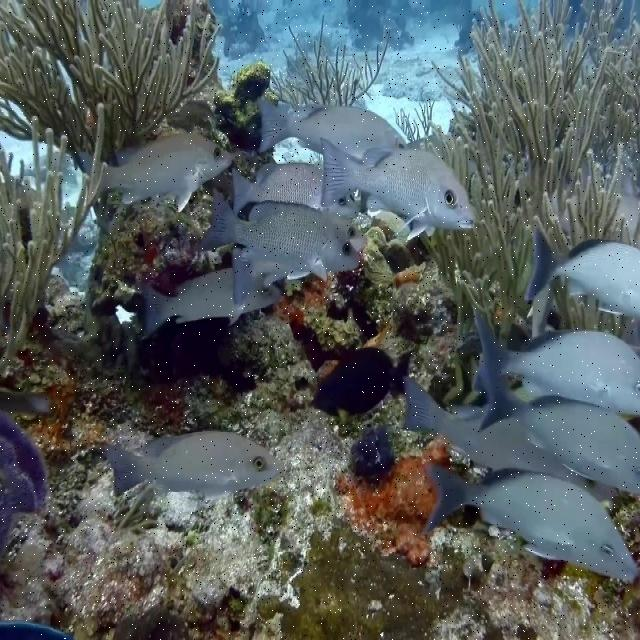fish: (399, 376, 622, 502), (423, 461, 639, 585), (478, 354, 639, 493), (473, 307, 639, 415), (198, 186, 360, 283), (321, 140, 477, 240), (102, 431, 284, 502), (524, 223, 639, 317), (102, 133, 232, 213), (144, 268, 282, 338), (257, 98, 410, 158), (232, 161, 359, 220), (314, 342, 411, 416), (233, 248, 328, 304), (322, 212, 369, 258)
reefs: (420, 0, 639, 405), (0, 0, 223, 177), (0, 102, 108, 394), (265, 12, 391, 109), (555, 276, 639, 345), (527, 279, 559, 338)
